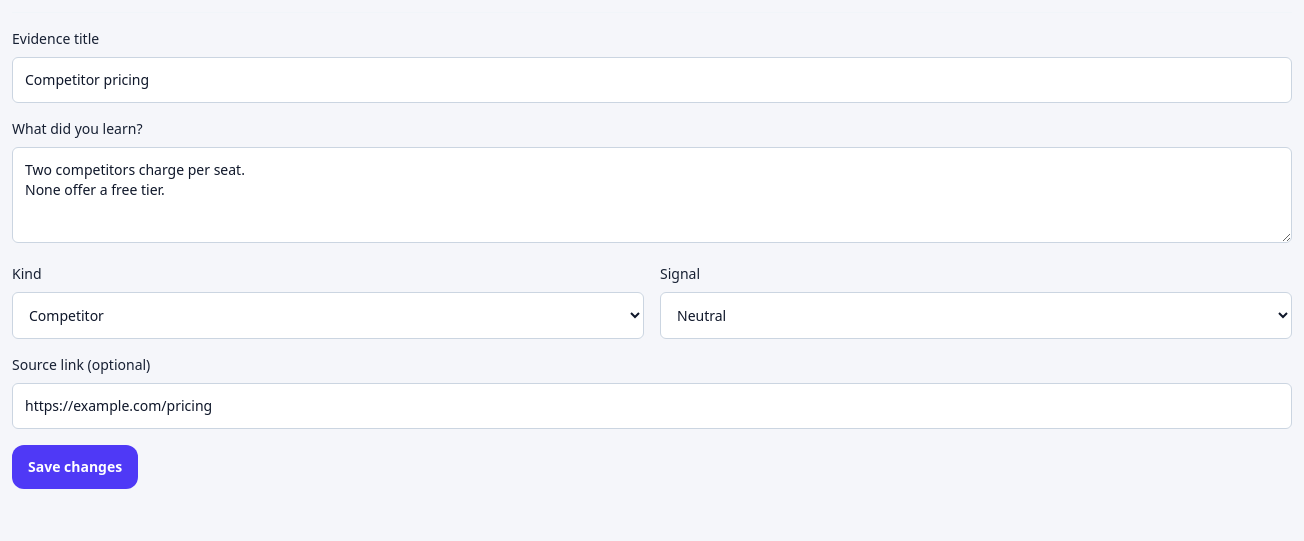
EditEvidenceForm › prefills the content and sends only the evidence id with it
The width and height of the screenshot is (1304, 541).
Select "Neutral" in the dropdown labelled "Signal" at (976, 316), box [660,292,1292,339]
Submit the form
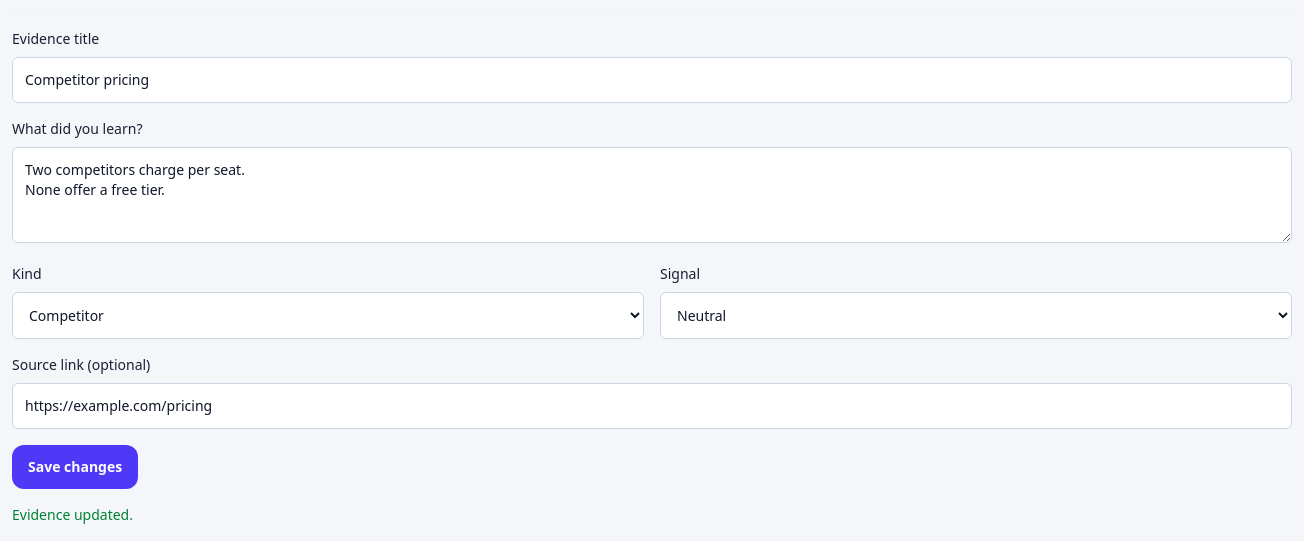
Check: the message "Evidence updated." is shown, box [12,505,133,524]
